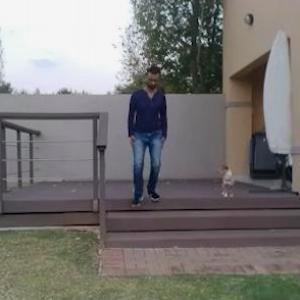follow: (126, 65, 161, 209)
